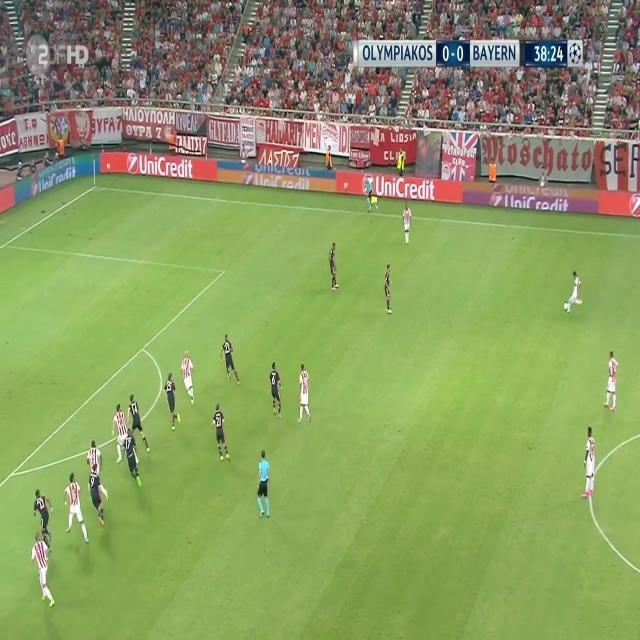Ball: (562, 299, 570, 312)
Player: (29, 532, 58, 609), (63, 471, 90, 546), (127, 390, 154, 458), (31, 482, 54, 554), (218, 331, 245, 389), (211, 402, 233, 466), (162, 369, 183, 433), (123, 427, 143, 491), (581, 426, 597, 503), (604, 349, 622, 415), (89, 463, 107, 529), (179, 347, 199, 405), (267, 360, 285, 421), (111, 400, 127, 464), (298, 362, 312, 427), (84, 438, 106, 479), (327, 241, 340, 295), (568, 269, 584, 308), (401, 201, 414, 247), (382, 262, 392, 314)
Referee: (253, 447, 272, 519), (363, 175, 381, 215)
